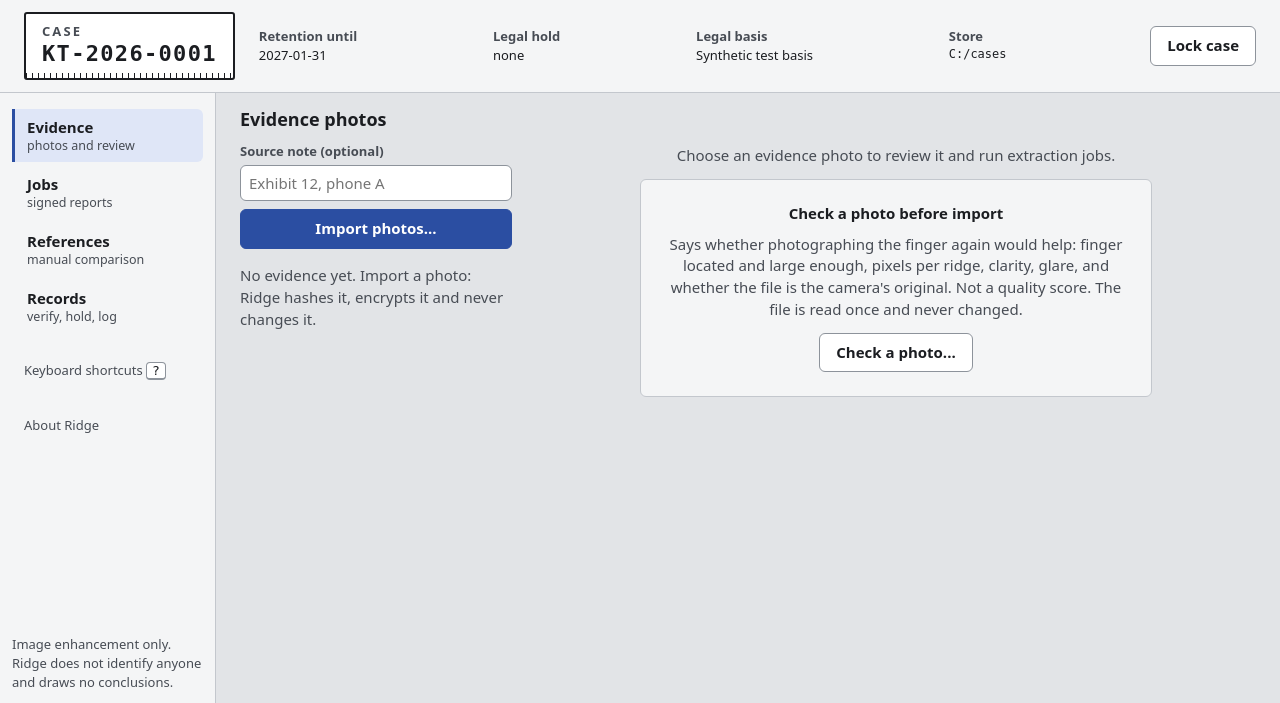
Test case: case screen › shows refusals from Ridge as alerts
This screenshot has width=1280, height=703.
Click the button "Records verify, hold, log" at (108, 306), box [12, 280, 203, 333]
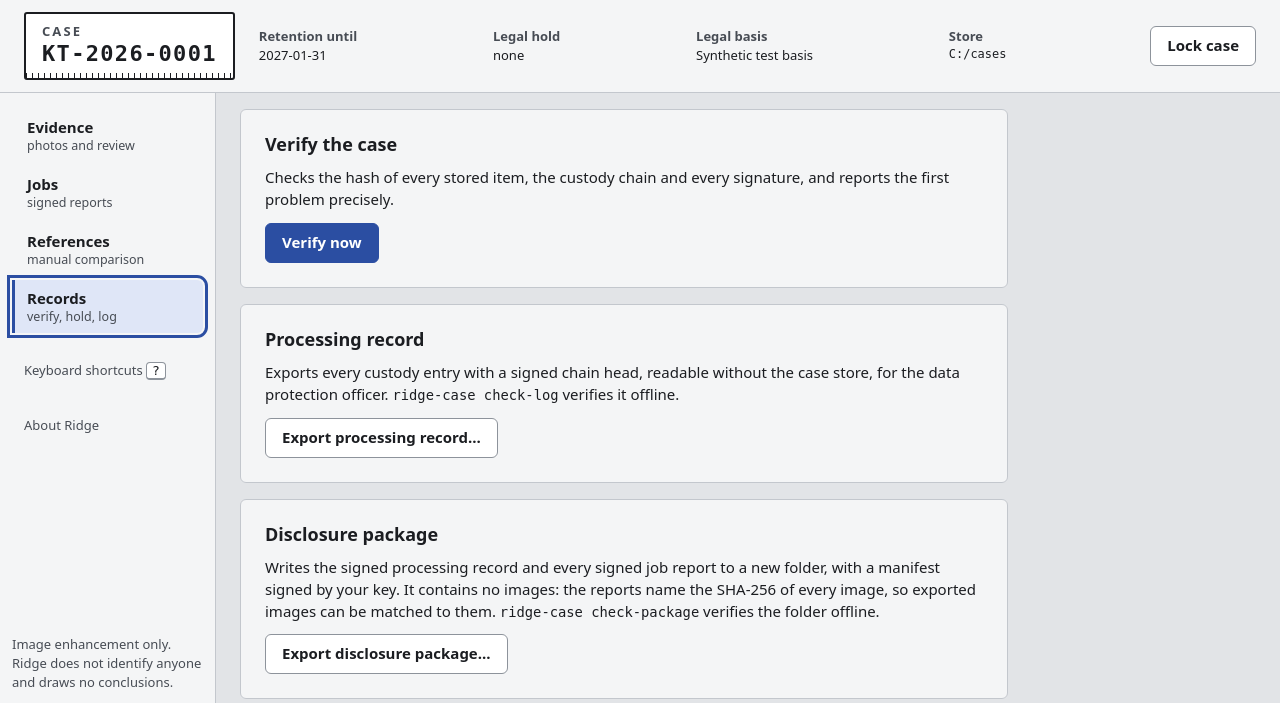
Click the button "Verify now" at (322, 243), box [265, 223, 379, 263]
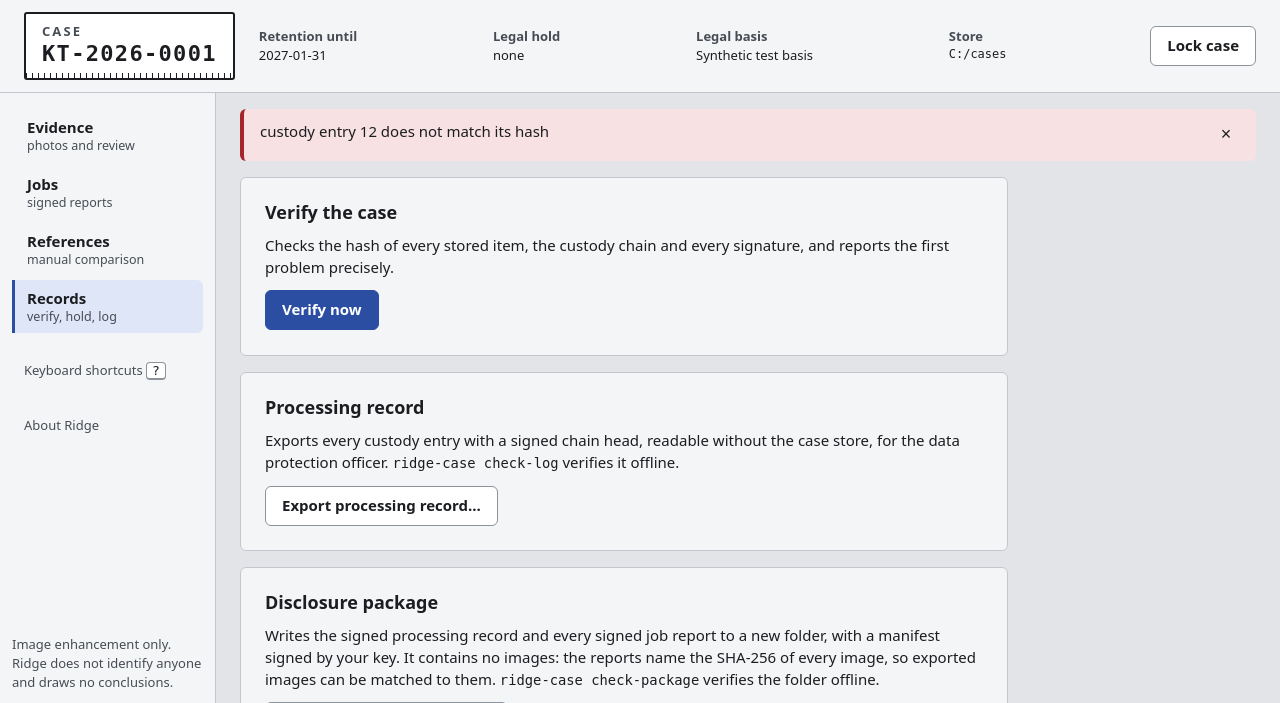
expect the message shows "custody entry 12 does not match its hash": met, box [260, 121, 549, 141]
